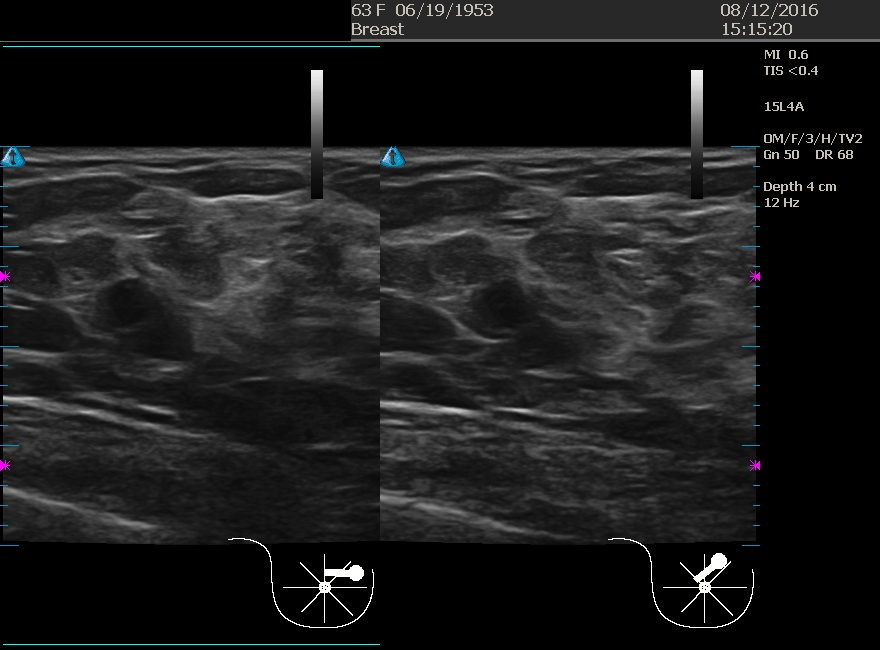BIRADS_2: (25, 234, 225, 434), (396, 216, 596, 416)
